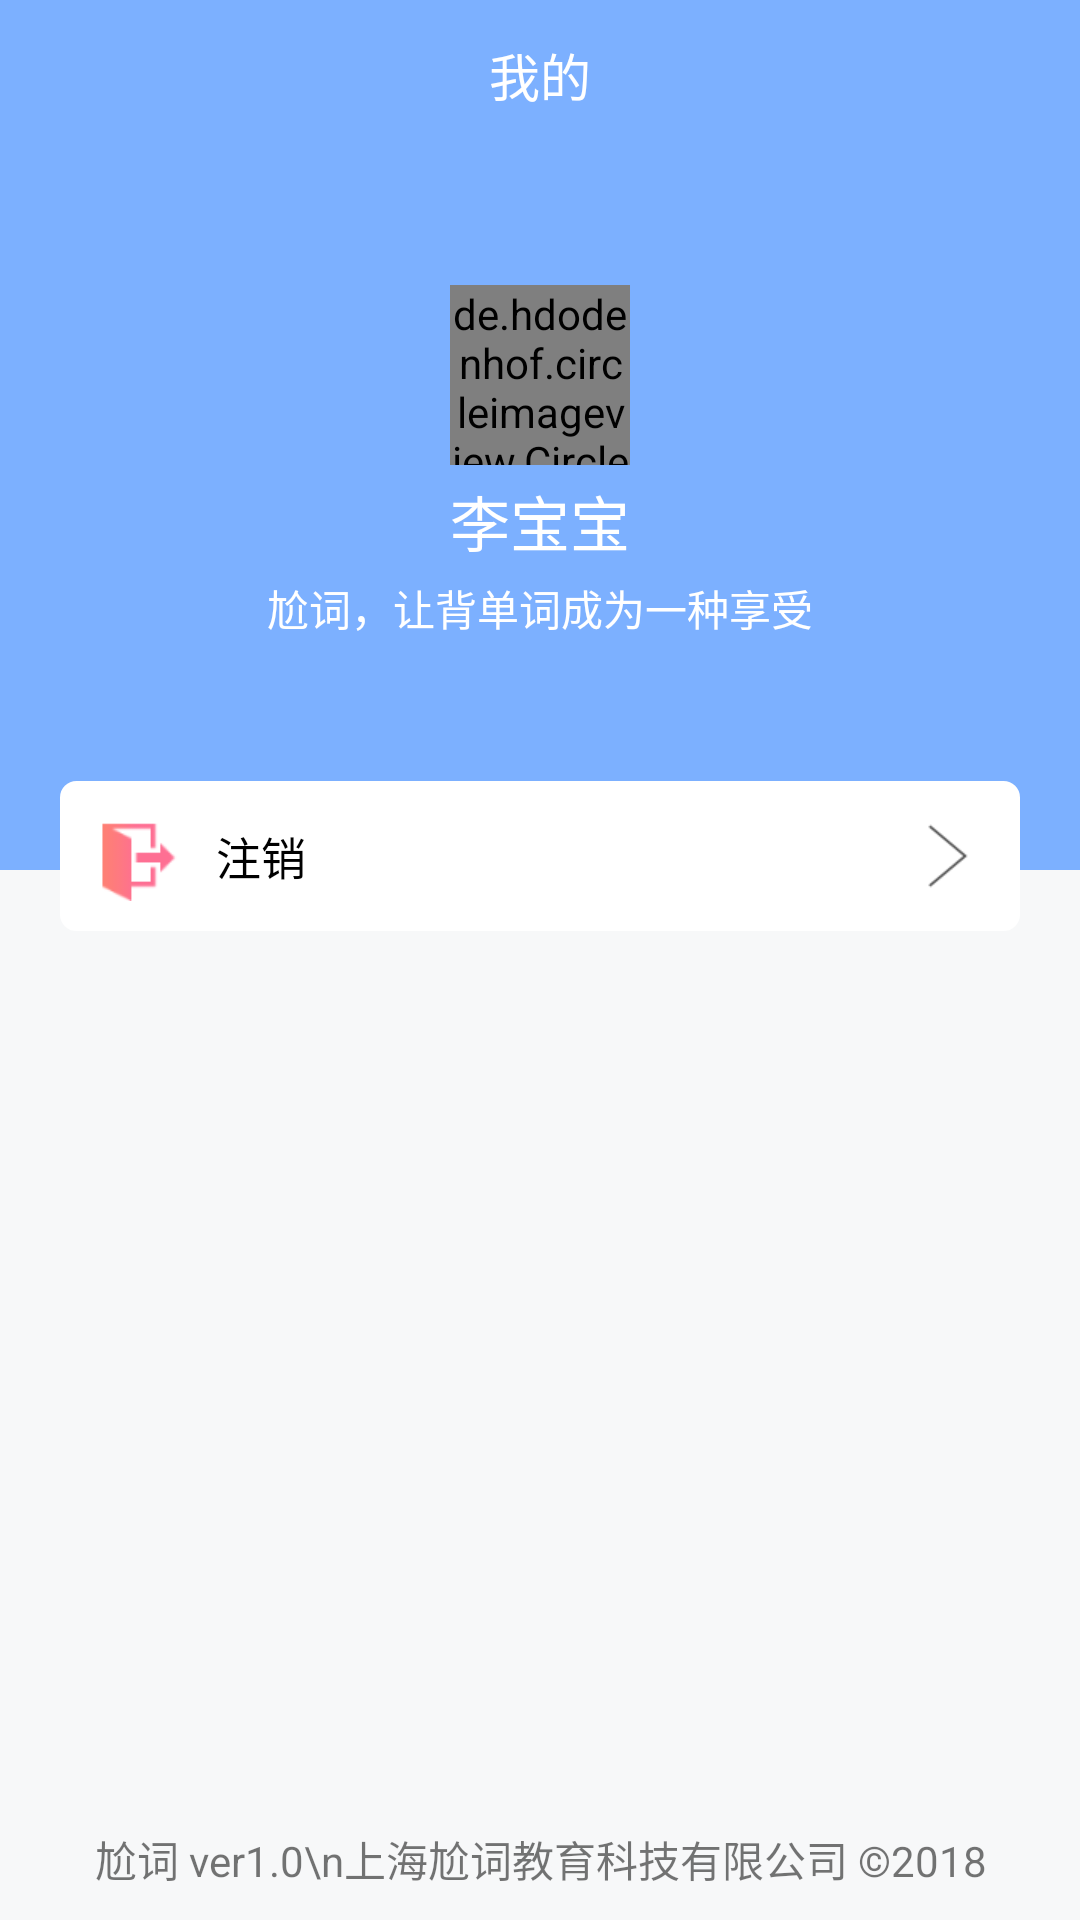

Screen size 1080px x 1920px. Icon name, then its box in pixels as region(x1, y1, x2, y2):
arrow: region(928, 825, 967, 887)
exit: region(102, 823, 175, 901)
